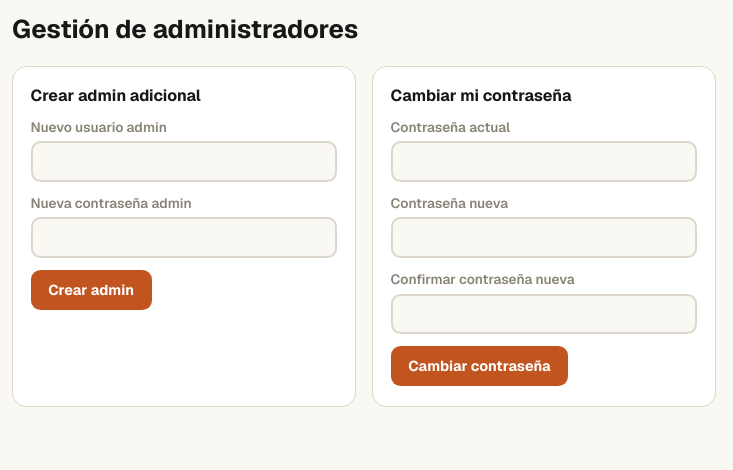
Test: AdminManagement (T54, RF-6, RF-10) › shows the API error when the current password is wrong
Type "wrong" into the password field labelled "Contraseña actual" at (544, 162), box 391,141 -> 697,182
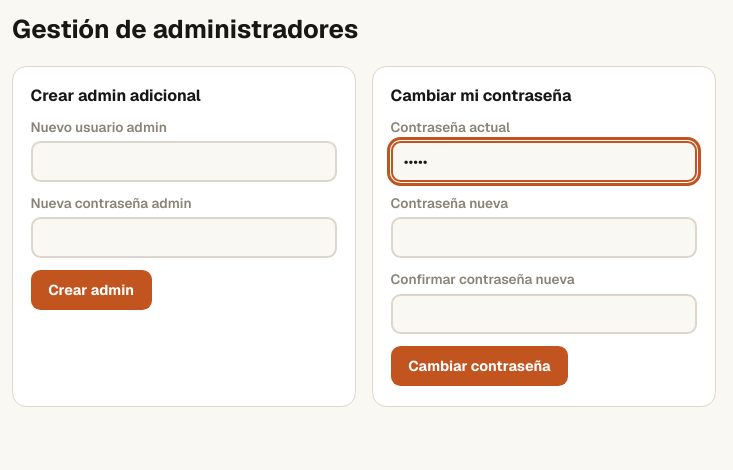
Type "NuevaClave9" into the password field labelled "Contraseña nueva" at (544, 238), box 391,217 -> 697,258
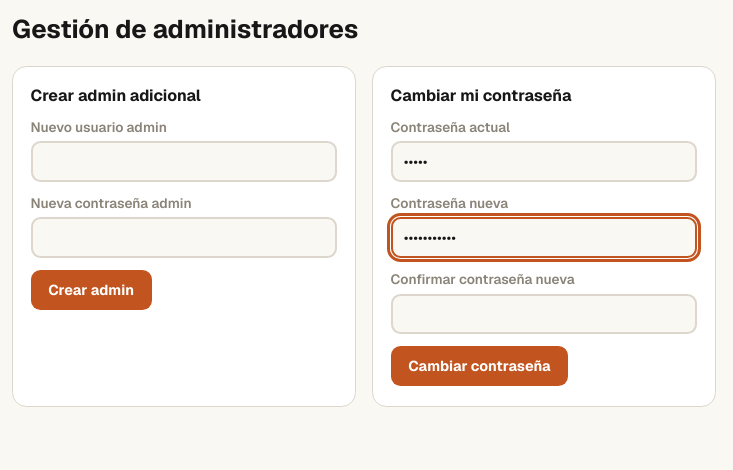
Type "NuevaClave9" into the password field labelled "Confirmar contraseña nueva" at (544, 314), box 391,294 -> 697,334
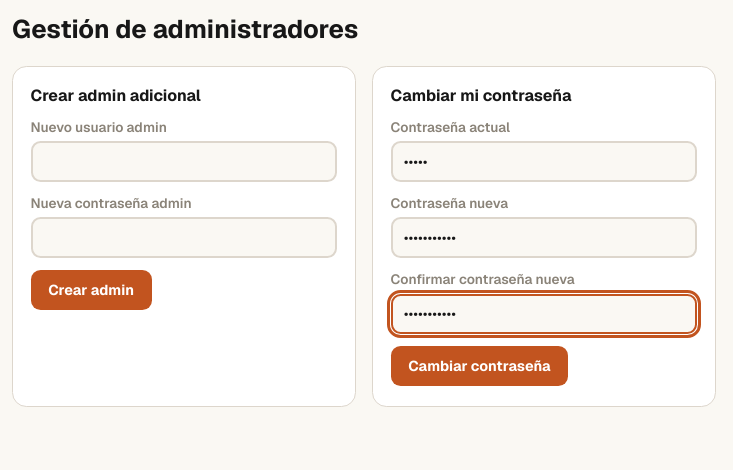
Click the button "Cambiar contraseña" at (479, 366), box 391,346 -> 568,386
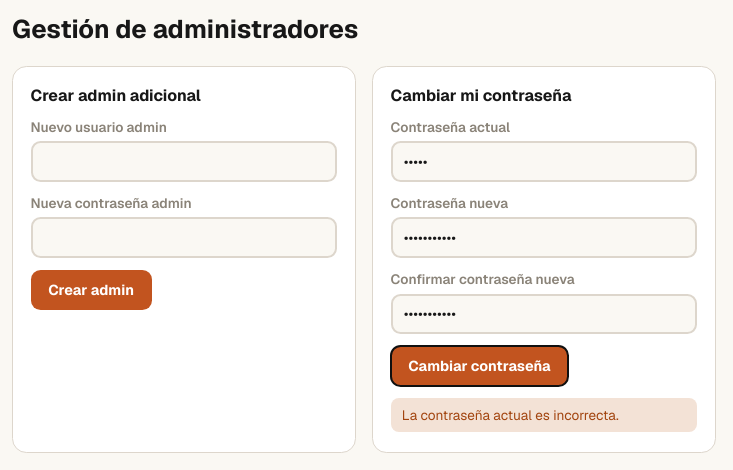
Result: the text "La contraseña actual es incorrecta." is shown at 391,398 -> 697,432
